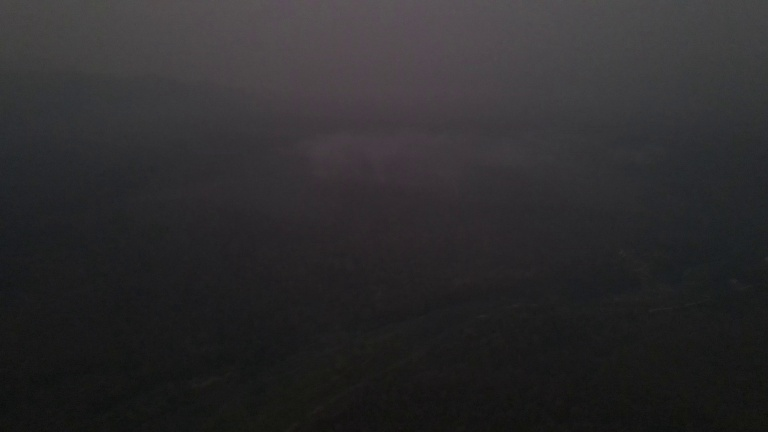smoke: (295, 125, 474, 179)
